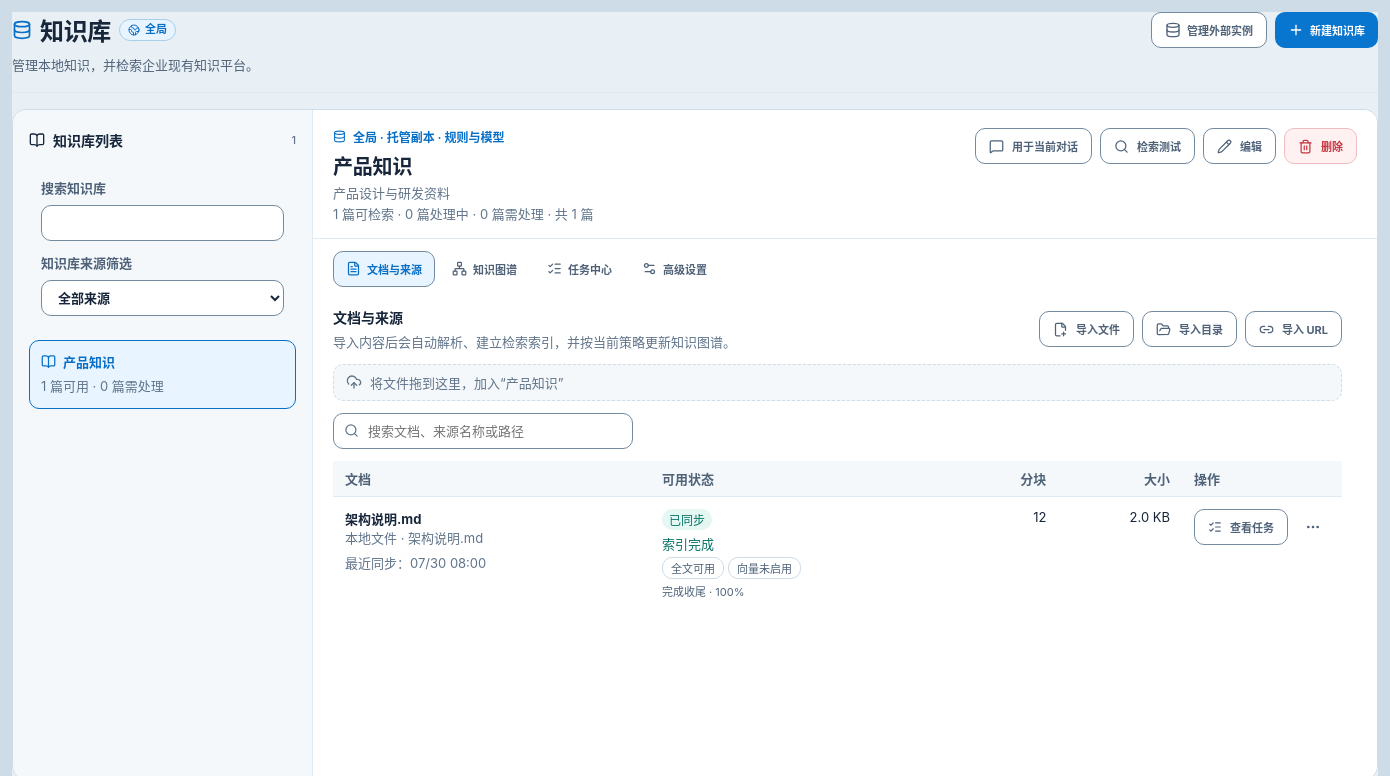
Test: KnowledgeWorkspace › counts contextual batches once and keeps finished failures in history without active batch fragments
Click the button "查看任务" at coordinates (1241, 527), box left=1194, top=509, right=1288, bottom=545
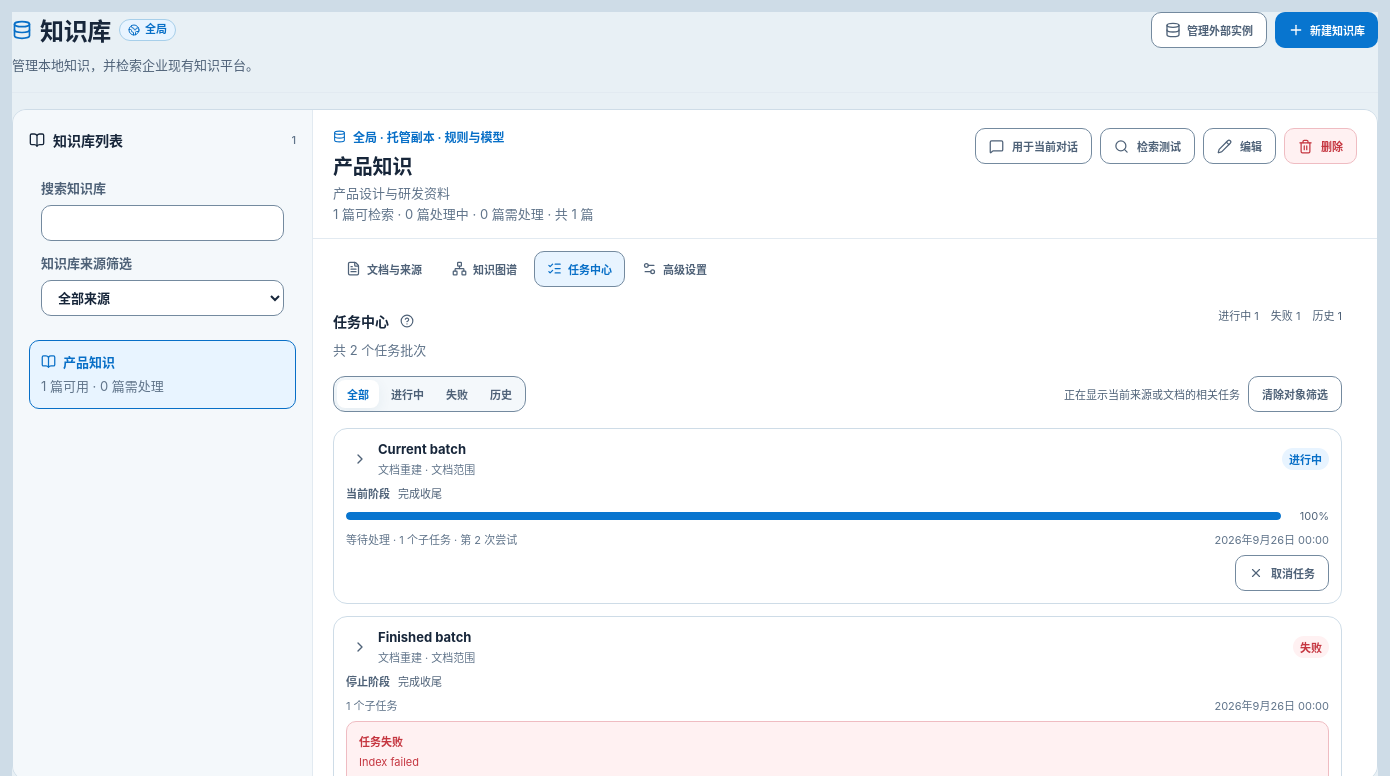
Check: the text "共 2 个任务批次" is shown, box left=333, top=340, right=426, bottom=360
Check: the text "进行中 1" is shown, box left=1218, top=307, right=1259, bottom=323
Check: the text "失败 1" is shown, box left=1271, top=307, right=1300, bottom=323
Click the button "历史" at coordinates (501, 394), box left=480, top=380, right=522, bottom=408
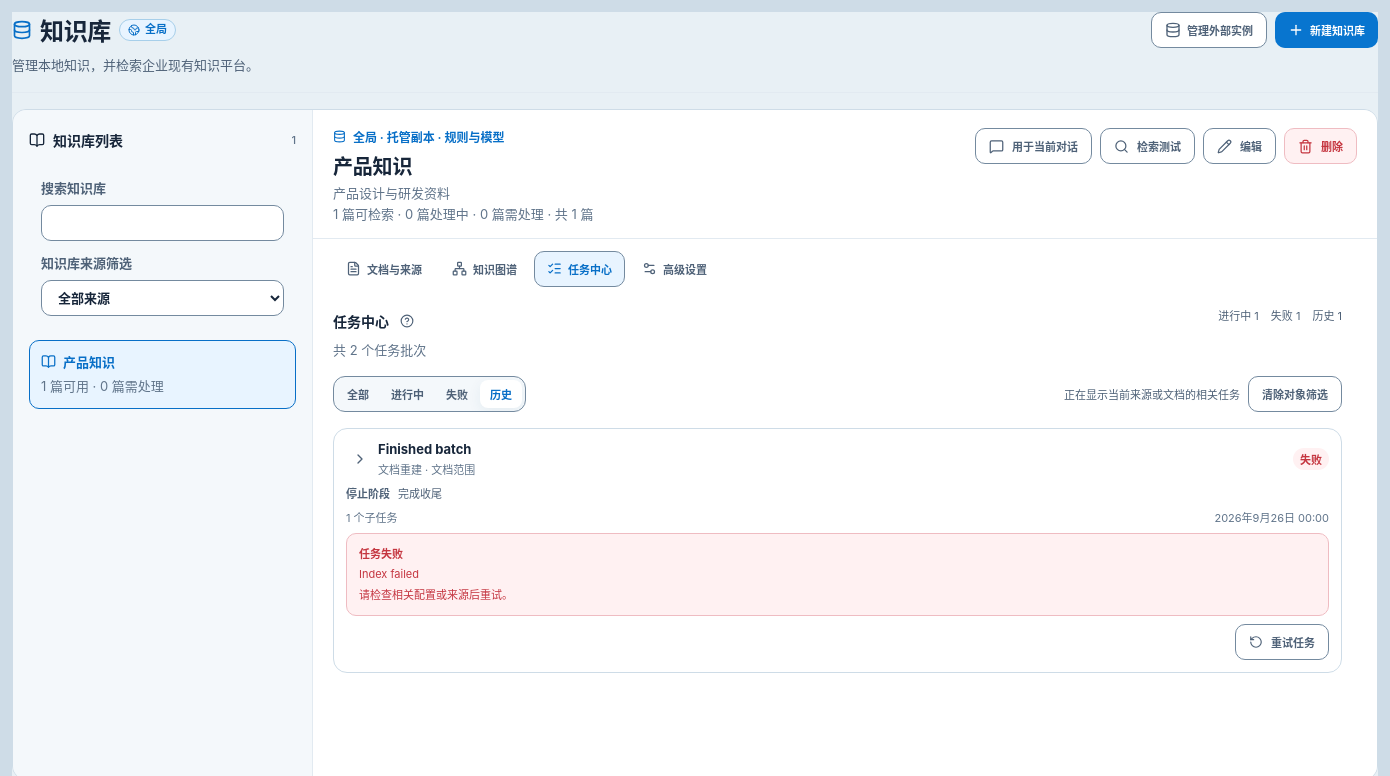
Check: the text "Finished batch" is shown, box left=378, top=441, right=475, bottom=457
Check: the text "Current batch" is gone
Check: the progress indicator is gone
Click the button named "展开 Finished batch 的阶段任务" at coordinates (360, 459), box left=346, top=445, right=374, bottom=473
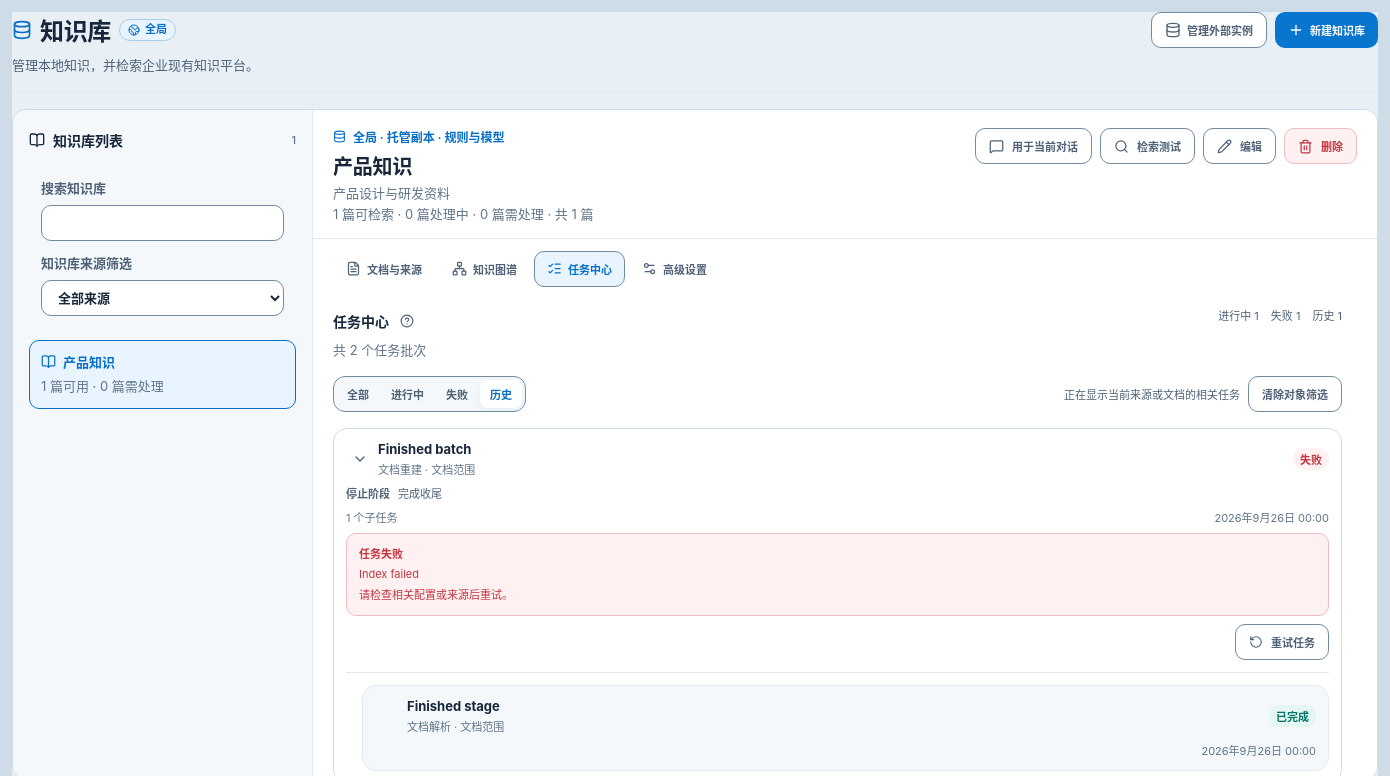
Check: the text "Finished stage" is shown, box left=407, top=698, right=504, bottom=714
Click the button "清除对象筛选" at coordinates (1295, 394), box left=1248, top=376, right=1342, bottom=412
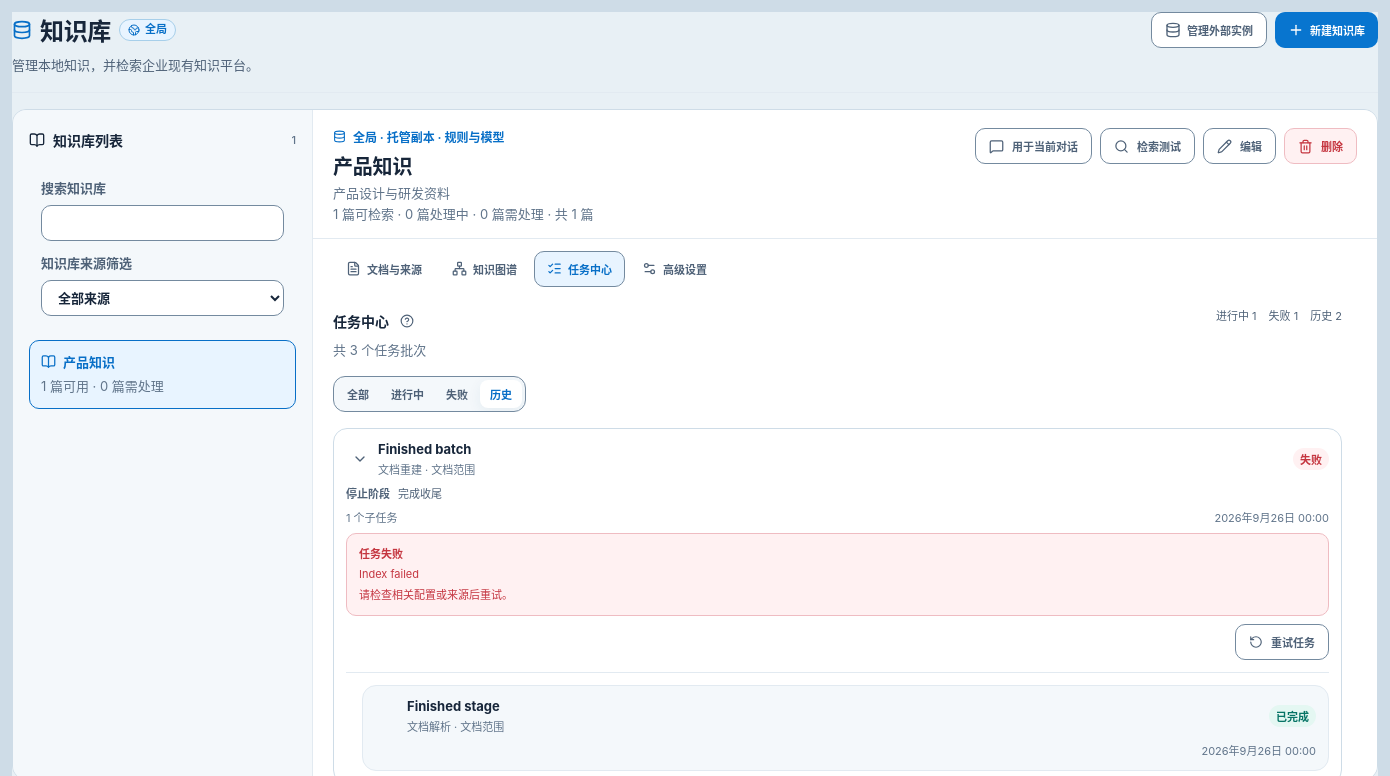
Check: the text "共 3 个任务批次" is shown, box left=333, top=340, right=426, bottom=360
